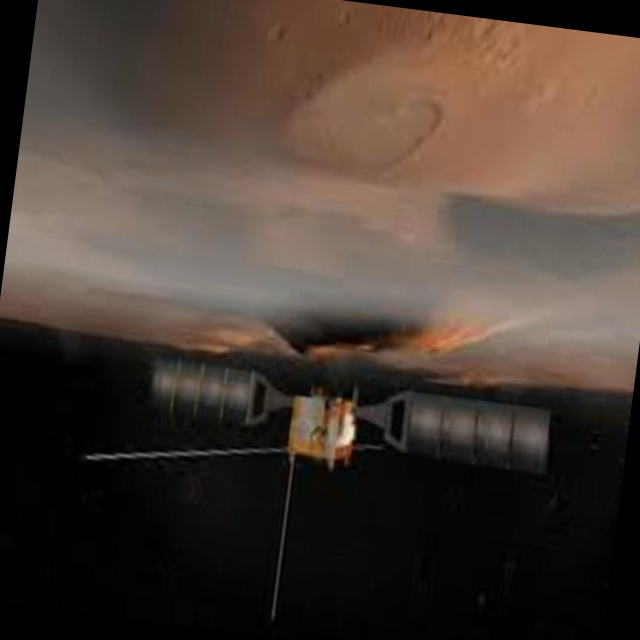satellite: (137, 333, 559, 499)
